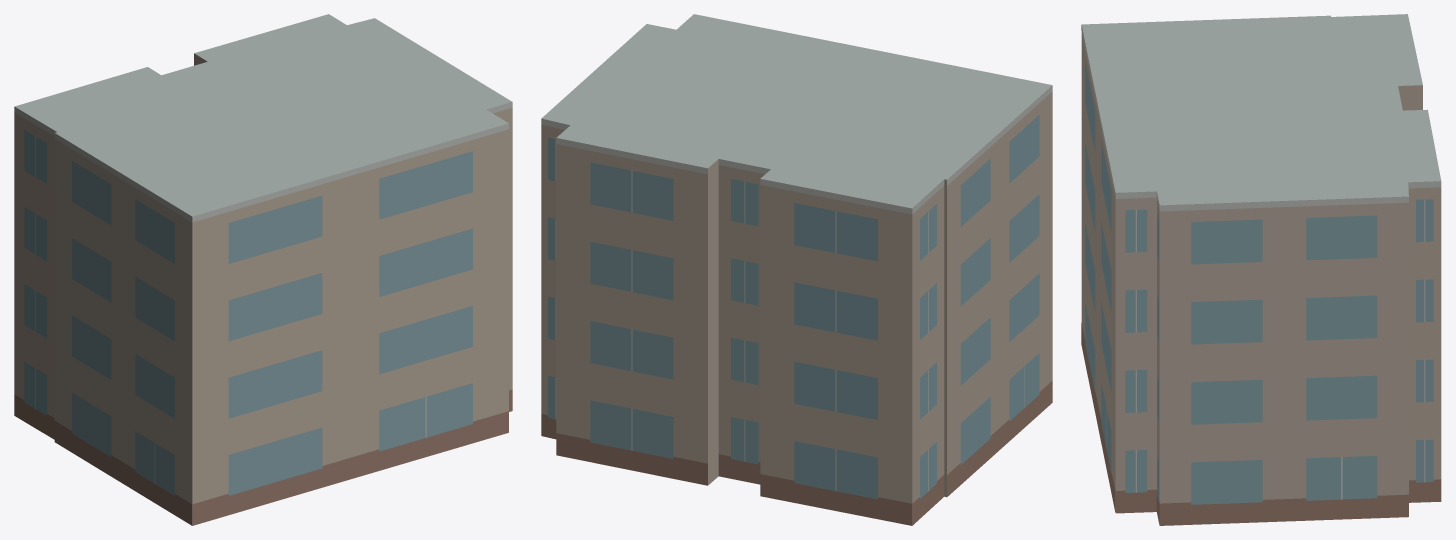
File: survey-upis-32740228.glb
3 views of the same model, side by side, from view 1: azimuth 30°, elevation 25°; view 2: azimuth 150°, elevation 25°; view 3: azimuth 270°, elevation 25° (orthographic). The views are drawn at different scales.
Parts seen in each view (by area): view 1: survey-upis-32740228.tmp; view 2: survey-upis-32740228.tmp; view 3: survey-upis-32740228.tmp.
Boxes of the visible parts, bbox=[...] form: survey-upis-32740228.tmp: bbox=[14, 14, 512, 525]; survey-upis-32740228.tmp: bbox=[541, 14, 1052, 525]; survey-upis-32740228.tmp: bbox=[1081, 14, 1441, 525].
Size of the model in its own units: 16.4 by 12.8 by 13.03.
